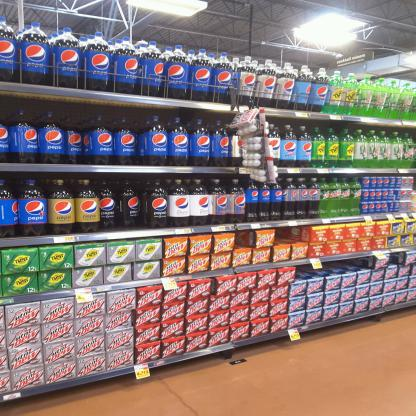Void: (278, 229, 304, 241), (304, 264, 366, 269), (236, 232, 252, 248), (389, 253, 396, 262)
